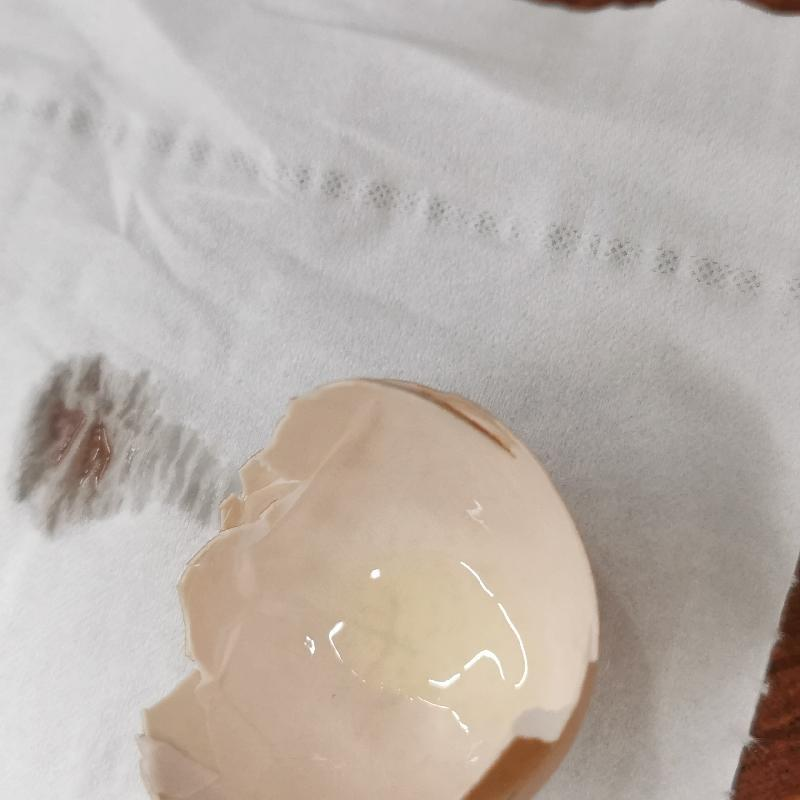eggshell: (134, 380, 606, 800)
